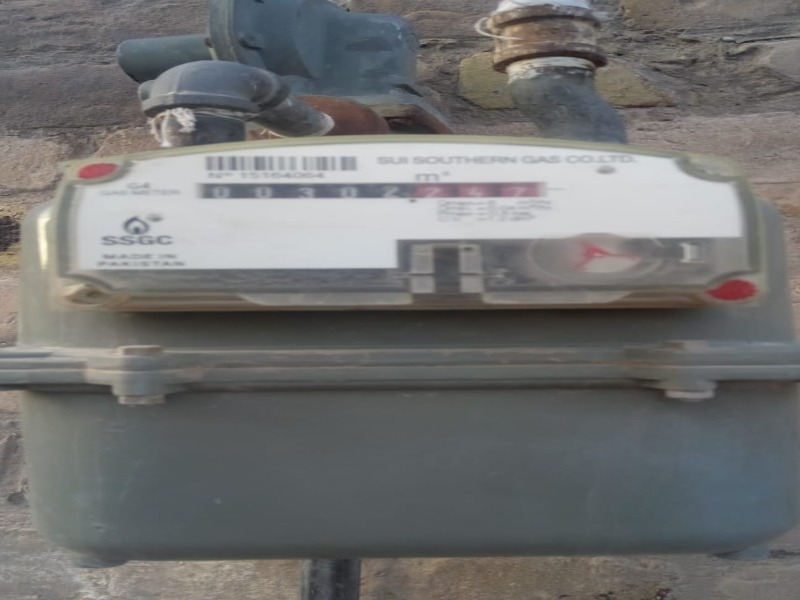ssgc: (189, 177, 552, 202)
